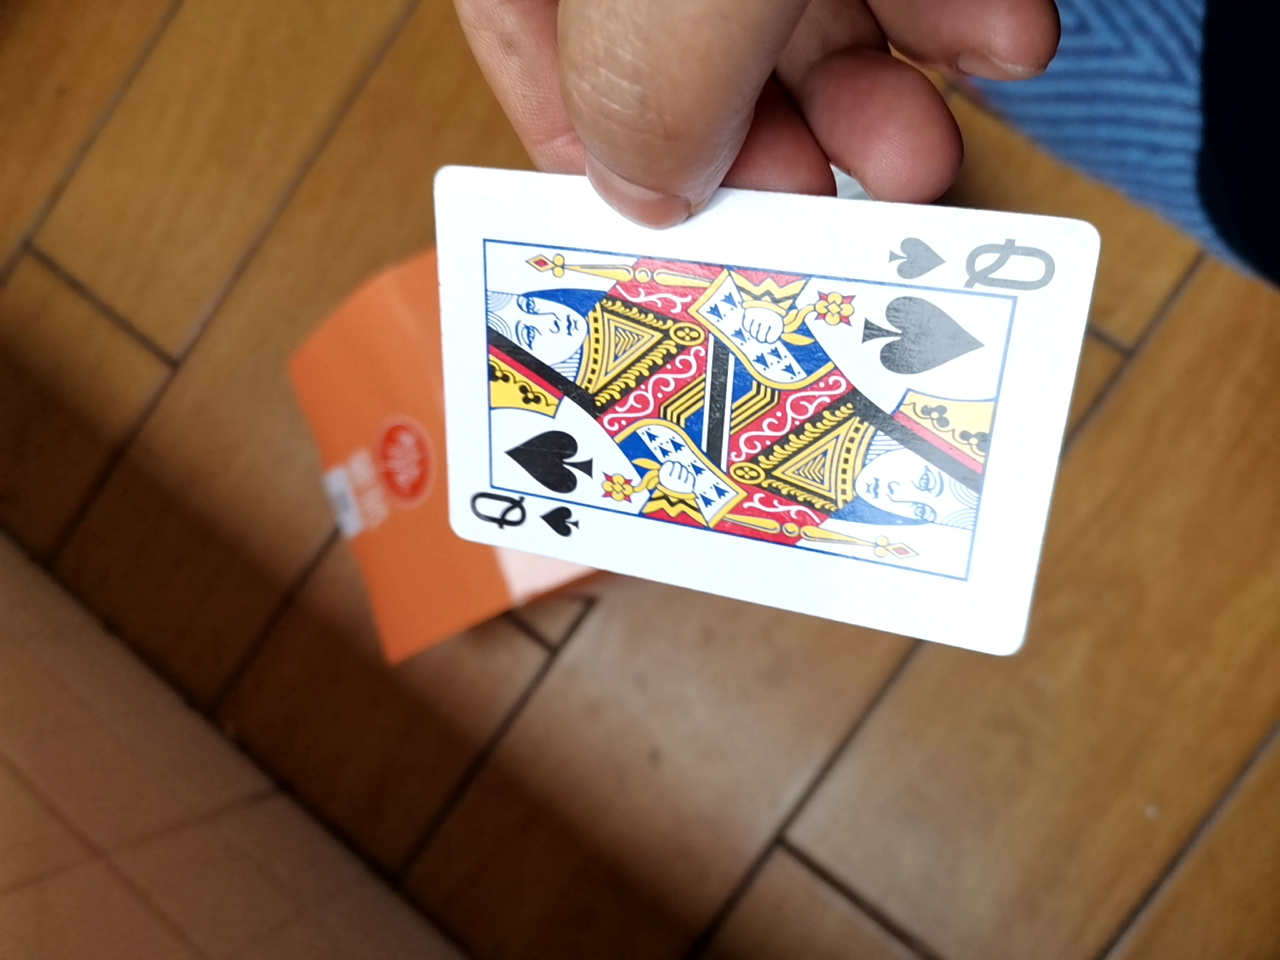ht q: (429, 165, 1090, 649)
